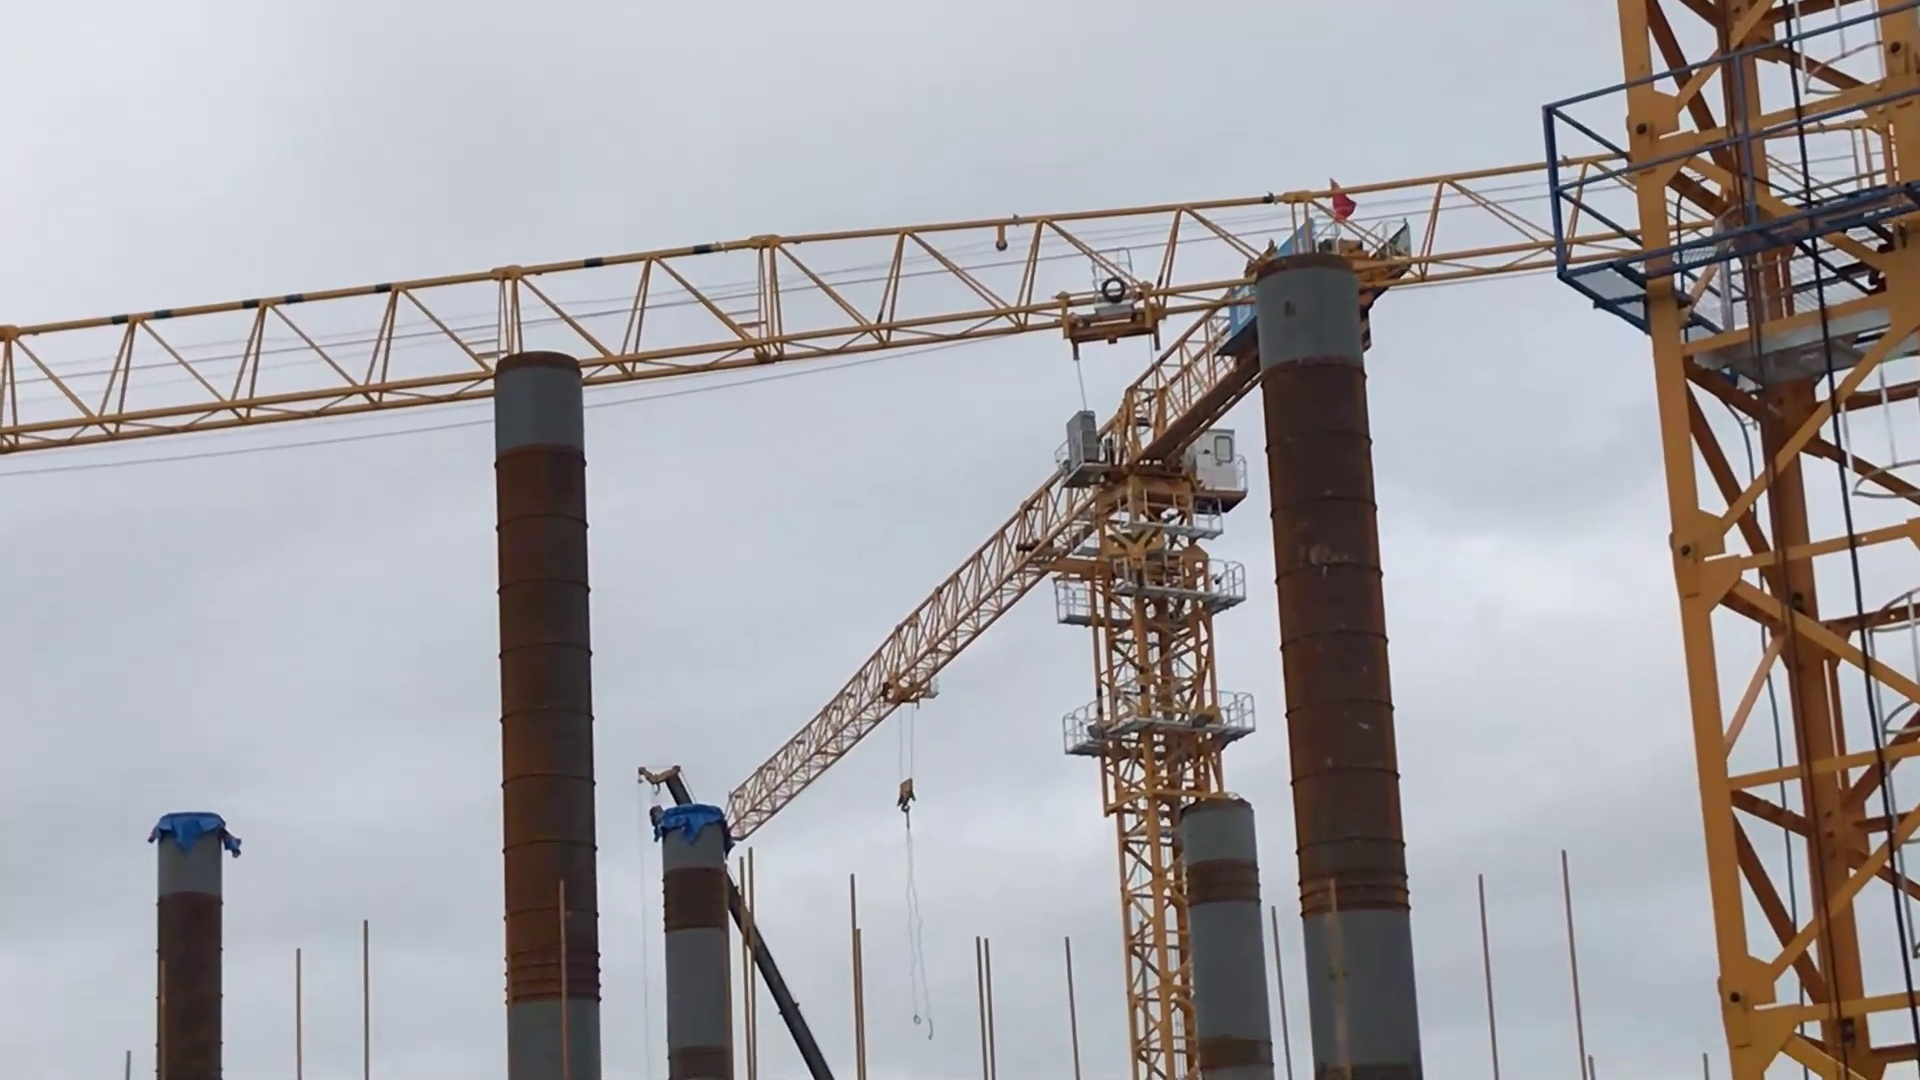hook: (885, 765, 935, 824)
